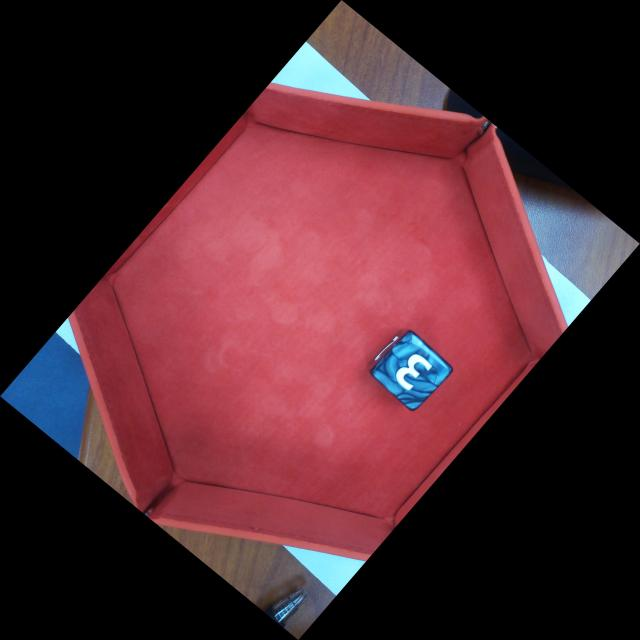dice: (369, 330, 456, 414)
